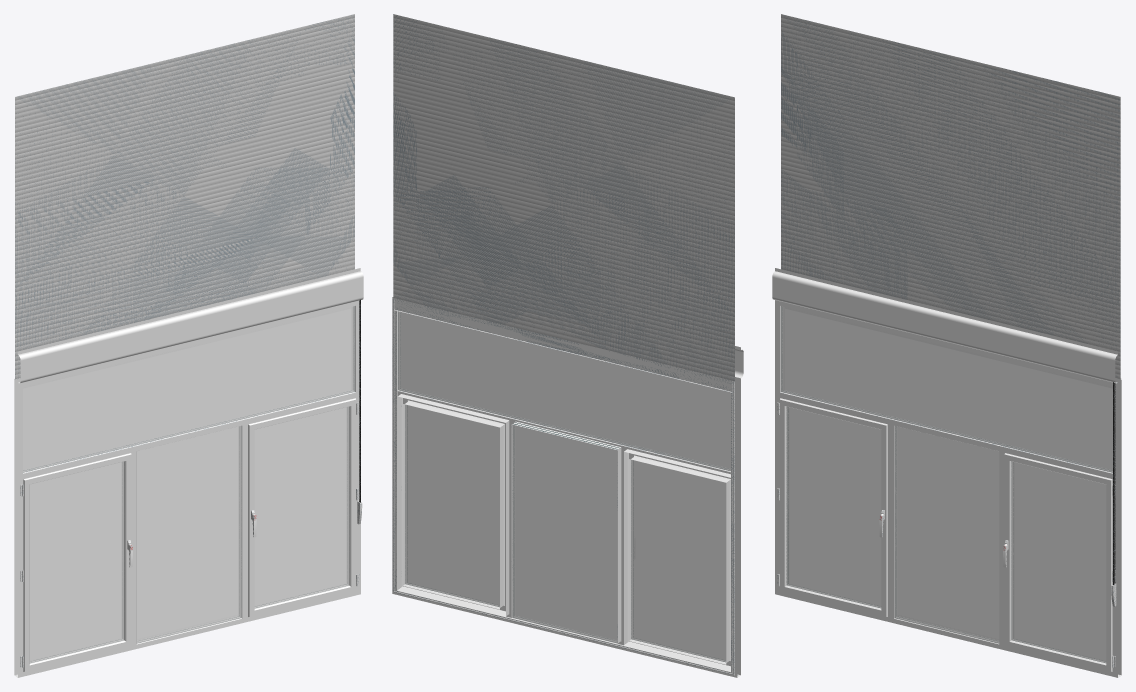
File: Window4_os_220x200x[3 casement_blinds].dae
3 views of the same model, side by side, from view 1: azimuth 30°, elevation 25°; view 2: azimuth 150°, elevation 25°; view 3: azimuth 330°, elevation 25° (orthographic).
Parts seen in each view (by area): view 1: group_18 (×4), group_27, group_16 (×4), group_9 (×2), group_21, group_17 (×2), group_8 (×2), group_26; view 2: group_27 (×2), group_18 (×4), group_16 (×6), group_9 (×2), group_17 (×6), group_26 (×3), group_8 (×4); view 3: group_18 (×4), group_27, group_16 (×4), group_9 (×2), group_21, group_17, group_8 (×2), group_26.
Part boxes in pixels (x1=…): group_18 (×4): x1=23, y1=306, x2=355, y2=643; group_27: x1=15, y1=14, x2=354, y2=378; group_16 (×4): x1=248, y1=398, x2=355, y2=616; group_9 (×2): x1=30, y1=461, x2=124, y2=663; group_21: x1=17, y1=268, x2=363, y2=383; group_17 (×2): x1=18, y1=300, x2=360, y2=677; group_8 (×2): x1=23, y1=453, x2=131, y2=671; group_26: x1=14, y1=378, x2=20, y2=675; group_27 (×2): x1=393, y1=14, x2=734, y2=392; group_18 (×4): x1=398, y1=311, x2=730, y2=643; group_16 (×6): x1=398, y1=396, x2=509, y2=615; group_9 (×2): x1=631, y1=459, x2=726, y2=662; group_17 (×6): x1=397, y1=377, x2=740, y2=675; group_26 (×3): x1=392, y1=297, x2=737, y2=677; group_8 (×4): x1=625, y1=452, x2=730, y2=670; group_18 (×4): x1=780, y1=306, x2=1112, y2=643; group_27: x1=781, y1=14, x2=1120, y2=378; group_16 (×4): x1=1004, y1=453, x2=1112, y2=671; group_9 (×2): x1=786, y1=406, x2=881, y2=608; group_21: x1=772, y1=268, x2=1117, y2=383; group_17: x1=775, y1=300, x2=1117, y2=677; group_8 (×2): x1=780, y1=398, x2=887, y2=616; group_26: x1=1115, y1=378, x2=1121, y2=675.
Bounding box in the file's own units: 86.63 × 4.16 × 139.
12 materials, 1 textured.
